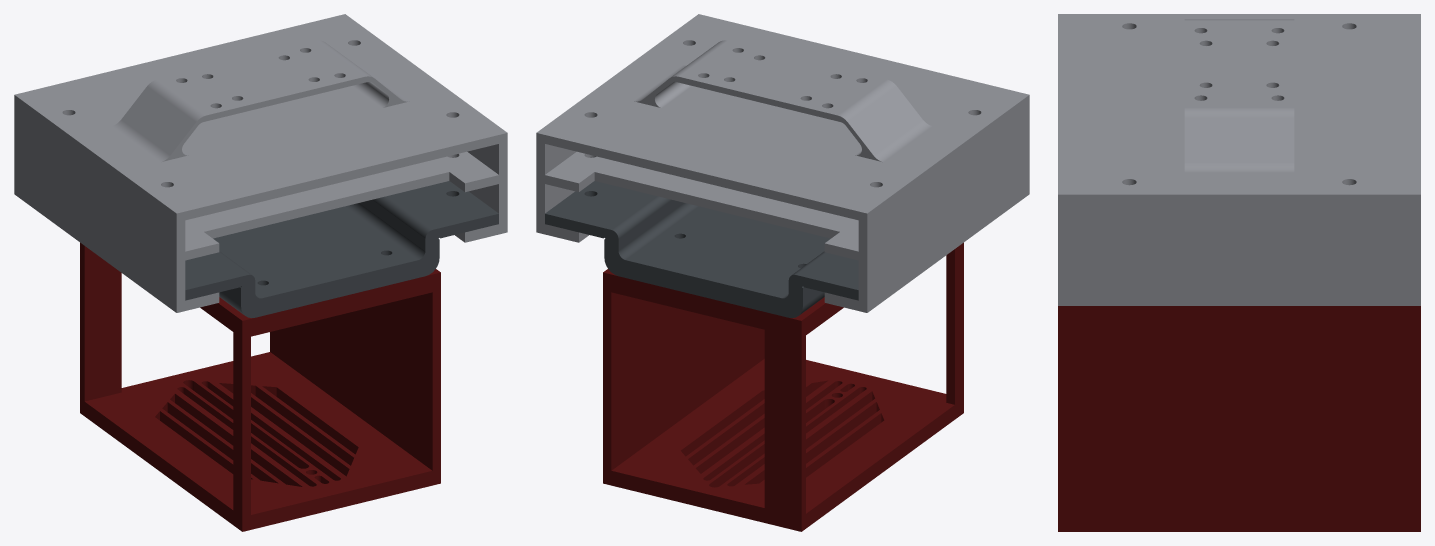
The model's file is drone-mount.glb.
The picture shows the model from 3 angles, left to right: view 1: azimuth 30°, elevation 25°; view 2: azimuth 150°, elevation 25°; view 3: azimuth 270°, elevation 25°; orthographic projection. The views are drawn at different scales.
Visible parts, largest first — view 1: bluethingtodrone-1, boxtobluething-1, cradlebracket-1; view 2: bluethingtodrone-1, boxtobluething-1, cradlebracket-1; view 3: bluethingtodrone-1, boxtobluething-1.
Boxes of the visible parts, <box> form: bluethingtodrone-1: <box>14,14,507,312</box>; boxtobluething-1: <box>80,242,440,531</box>; cradlebracket-1: <box>185,181,498,318</box>; bluethingtodrone-1: <box>536,14,1029,312</box>; boxtobluething-1: <box>603,242,963,531</box>; cradlebracket-1: <box>545,181,858,318</box>; bluethingtodrone-1: <box>1058,14,1420,305</box>; boxtobluething-1: <box>1058,306,1420,531</box>.
Bounding box in the file's own units: 0.1165 × 0.1245 × 0.099.
